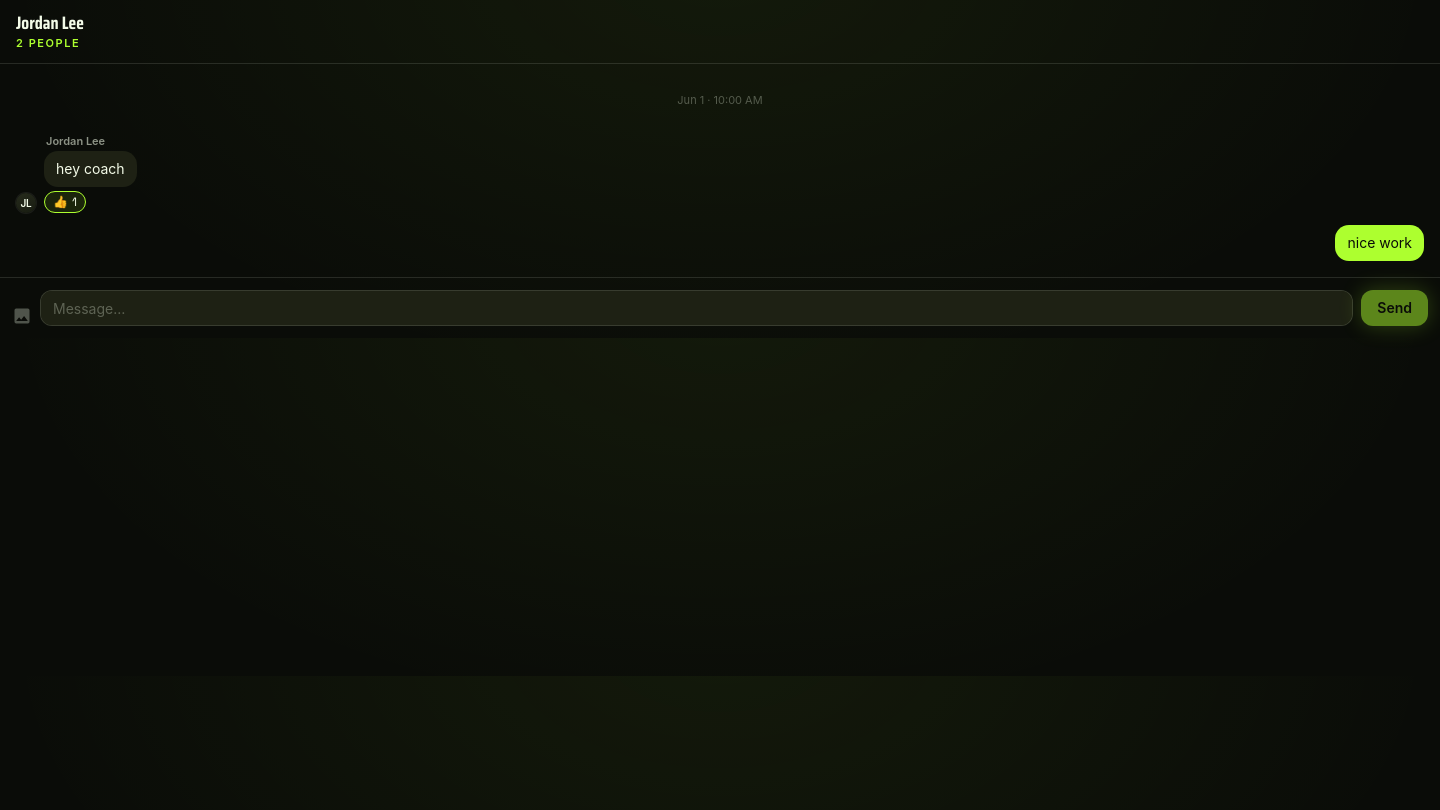
Test: a rejected send keeps the draft and says why
Type "great run" into the text box labelled "Message" at (697, 308), box [40,290,1353,326]
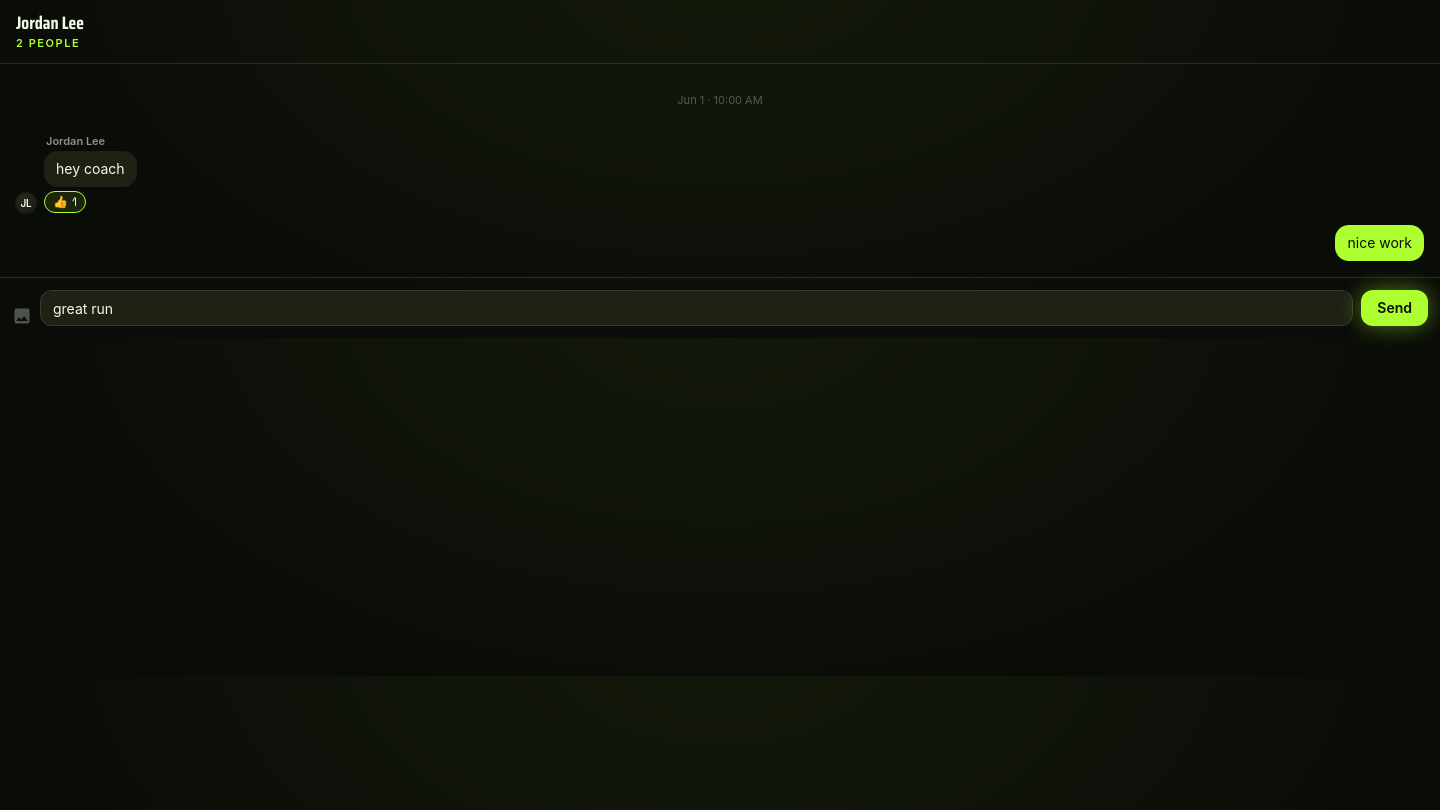
Click the button with aria-label "send message" at (1395, 308), box [1361,290,1428,326]
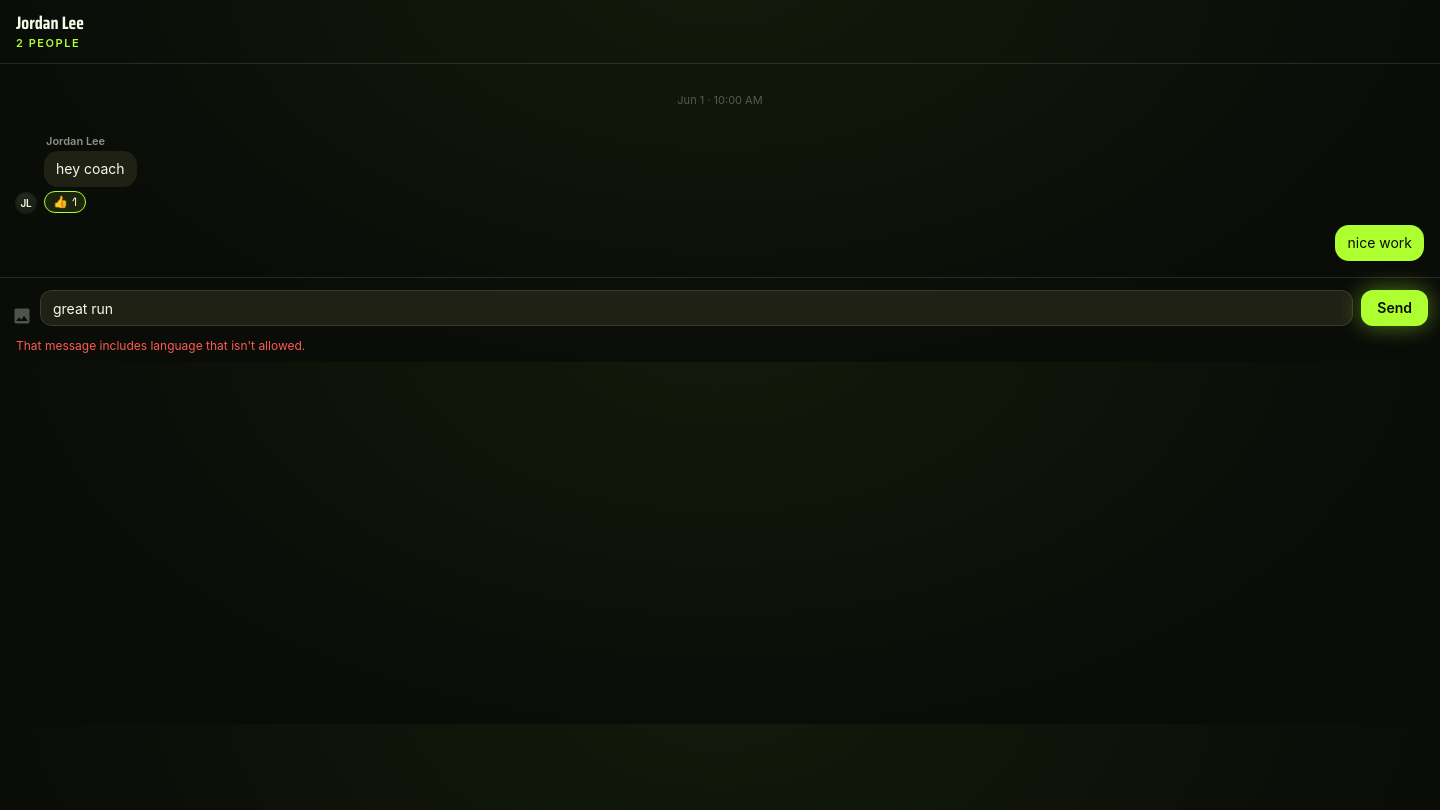
Expected: the text "That message includes language that isn't allowed." is shown, [16,338,305,353]
